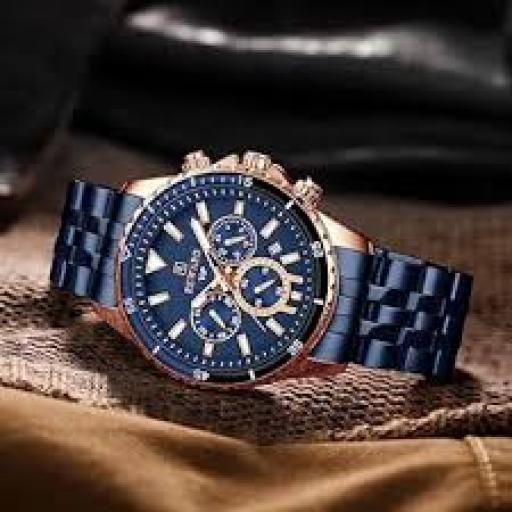KolSaati: (41, 134, 483, 418)
